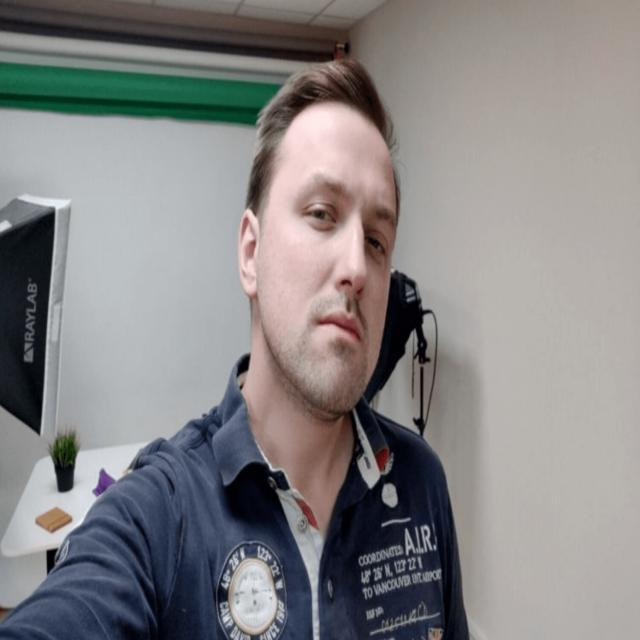earlobe: (237, 210, 258, 299)
